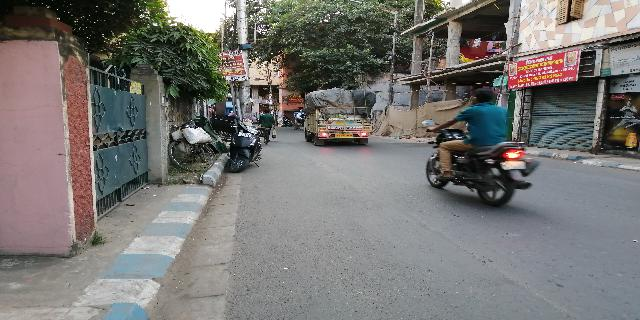Minitruck: (300, 88, 378, 148)
Motorbike: (417, 84, 537, 214)
